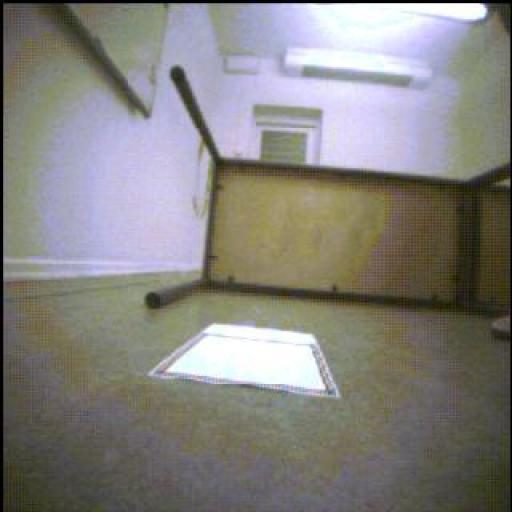Pad: (174, 318, 340, 401)
